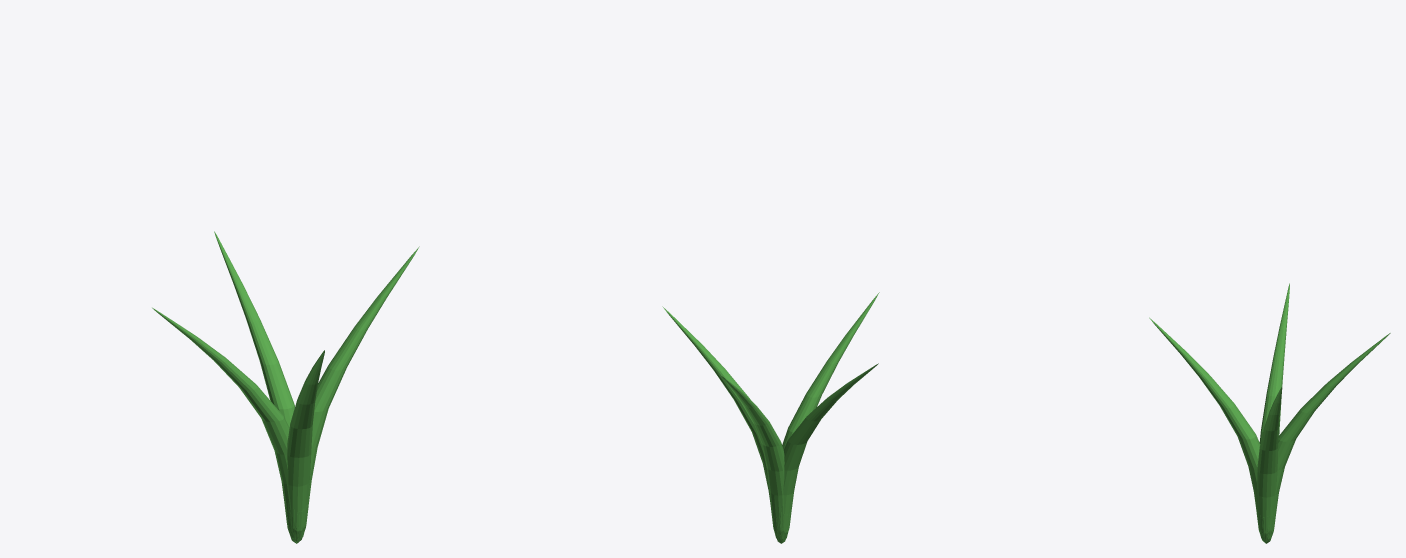
The model's file is Grass 9.fbx.
The picture shows the model from 3 angles, left to right: view 1: azimuth 30°, elevation 25°; view 2: azimuth 150°, elevation 25°; view 3: azimuth 270°, elevation 25°; orthographic projection. The views are drawn at different scales.
Parts seen in each view (by area): view 1: Cube; view 2: Cube; view 3: Cube.
Boxes of the visible parts, x1,y1,x2,y2 form: Cube: (152,231,419,543); Cube: (662,292,879,543); Cube: (1149,283,1390,543).
Bounding box in the file's own units: 58.02 × 56.57 × 44.34.
